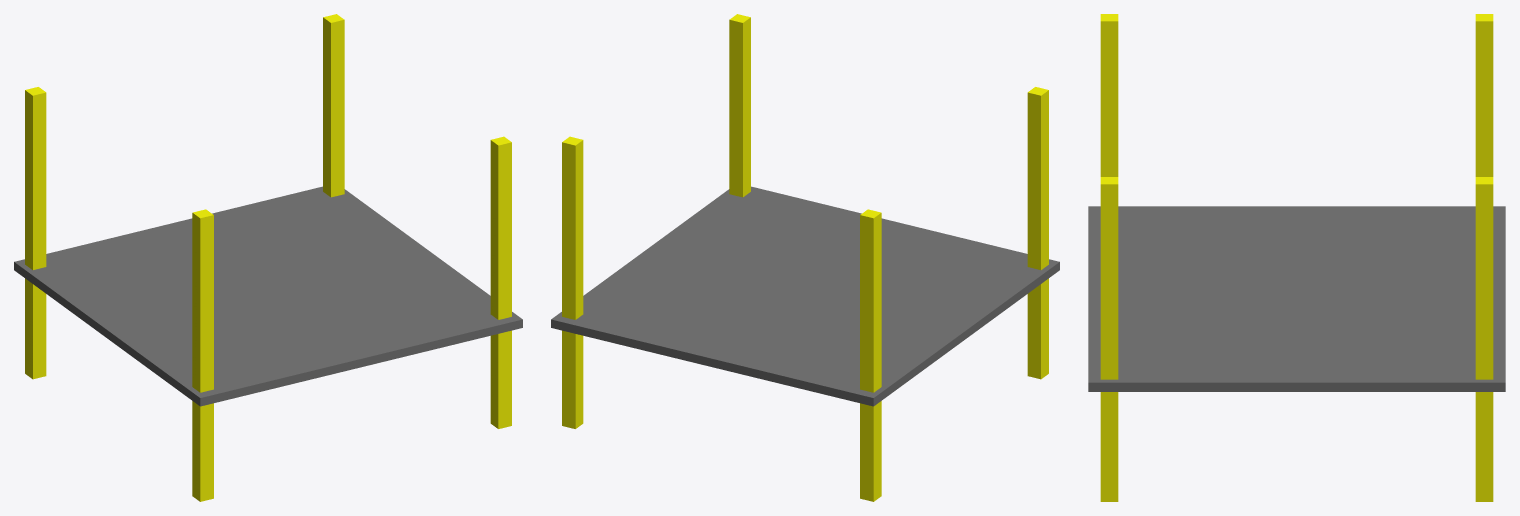
File: Stellage.obj
3 renders of one model, left to right at view 1: azimuth 30°, elevation 25°; view 2: azimuth 150°, elevation 25°; view 3: azimuth 270°, elevation 25°, orthographic. The views are drawn at different scales.
Visible parts, largest first — view 1: Stellage:Stellage; view 2: Stellage:Stellage; view 3: Stellage:Stellage.
Boxes of the visible parts, x1,y1,x2,y2 form: Stellage:Stellage: (14,14,522,501); Stellage:Stellage: (551,14,1059,501); Stellage:Stellage: (1088,14,1505,501).
Size of the model in its own units: 1.19 by 1 by 1.19.
